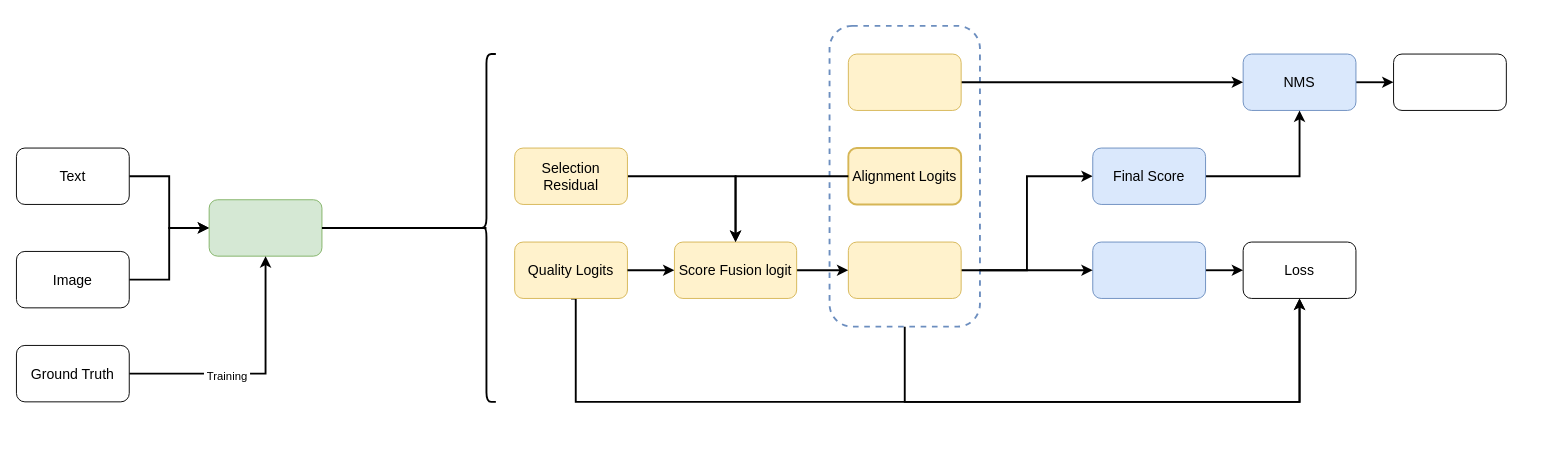
The diagram is 1551 pixels wide and 474 high, and some of its shapes have lost their labels. The shapes that lost their labels are listed below. From the top down, each one's centre as x and y in pixels, then its label:
At (904,81): "BBox Pred".
At (1449,81): "Result".
At (265,227): "LightDet".
At (904,269): "Selection Logits".
At (1149,269): "Hungarian Matcher".
